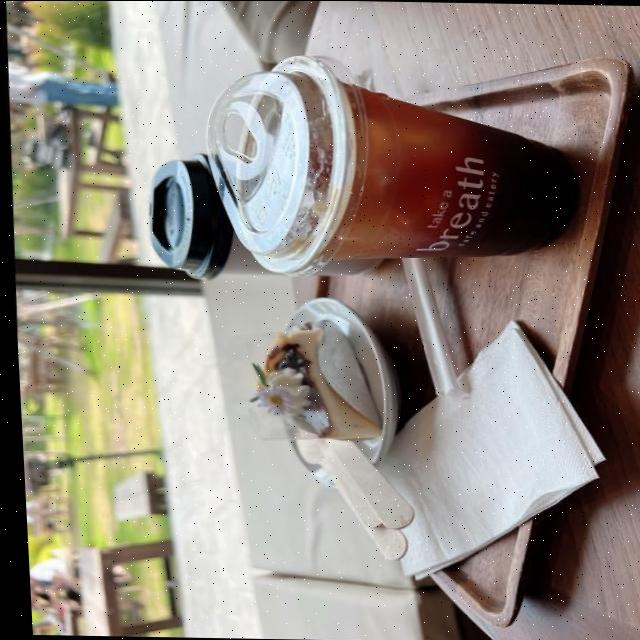cup: (186, 39, 595, 296)
